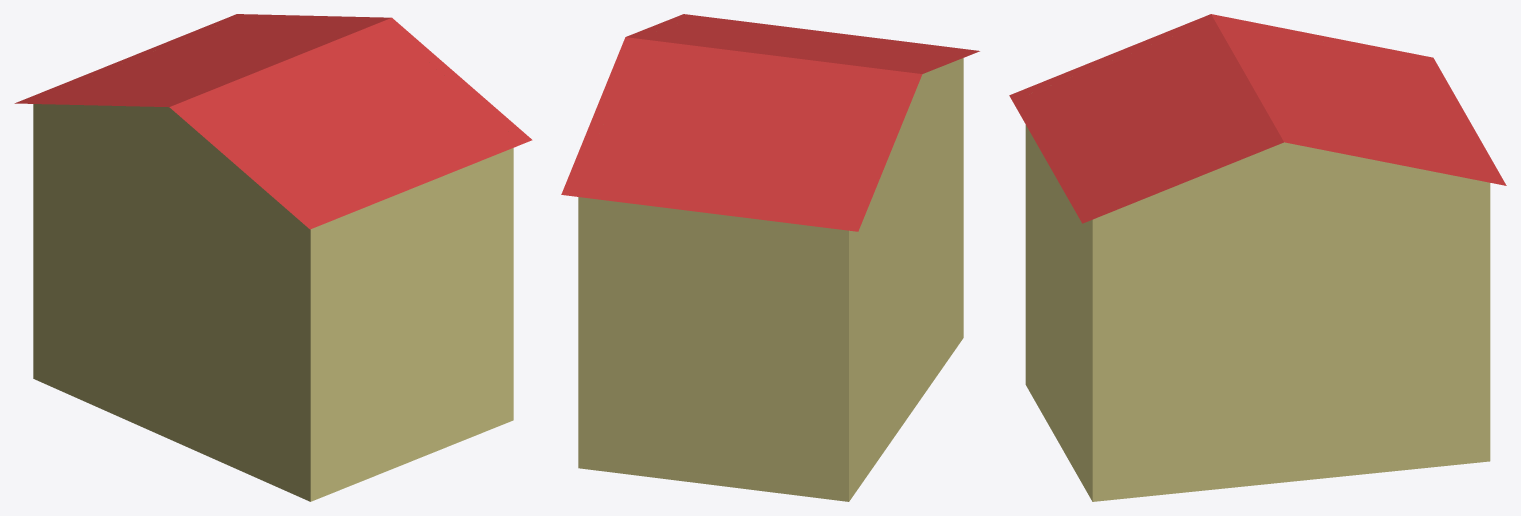
3 renders of one model, left to right at view 1: azimuth 30°, elevation 25°; view 2: azimuth 150°, elevation 25°; view 3: azimuth 270°, elevation 25°, orthographic.
Bounding box in the file's own units: 7.37 × 9.03 × 6.93.
